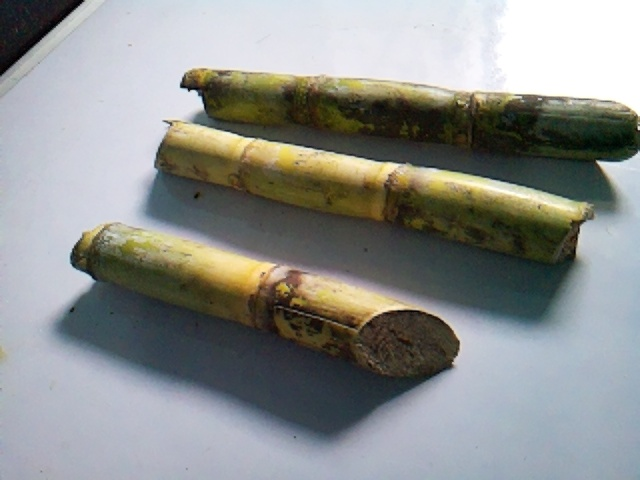Good Sugarcane: (71, 206, 460, 381), (156, 114, 594, 263), (183, 61, 640, 164)
Node: (235, 252, 308, 346), (365, 152, 428, 233), (442, 87, 489, 155), (287, 69, 333, 130), (230, 125, 265, 199)
